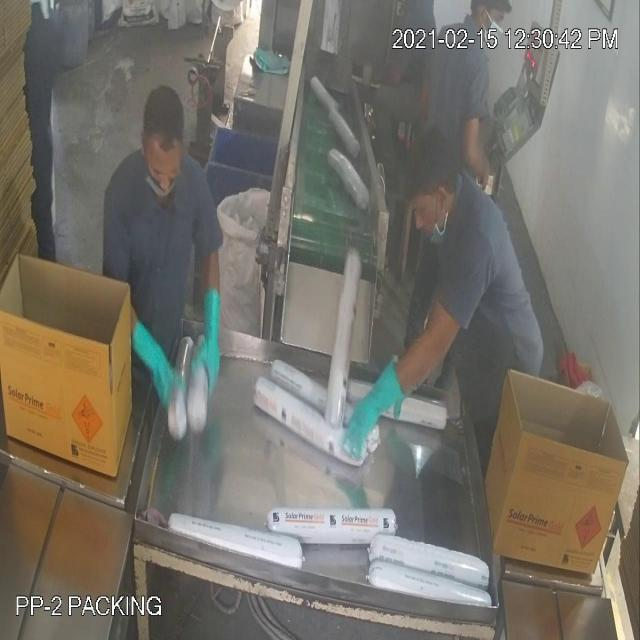Gloves: (38, 100, 478, 406)
